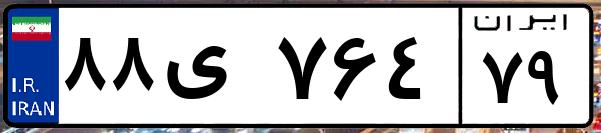4: (385, 28, 445, 110)
6: (330, 28, 385, 110)
7: (270, 28, 330, 110), (475, 38, 525, 113)
8: (57, 26, 110, 100), (110, 28, 158, 98)
9: (525, 38, 570, 115)
ی: (158, 20, 270, 120)
